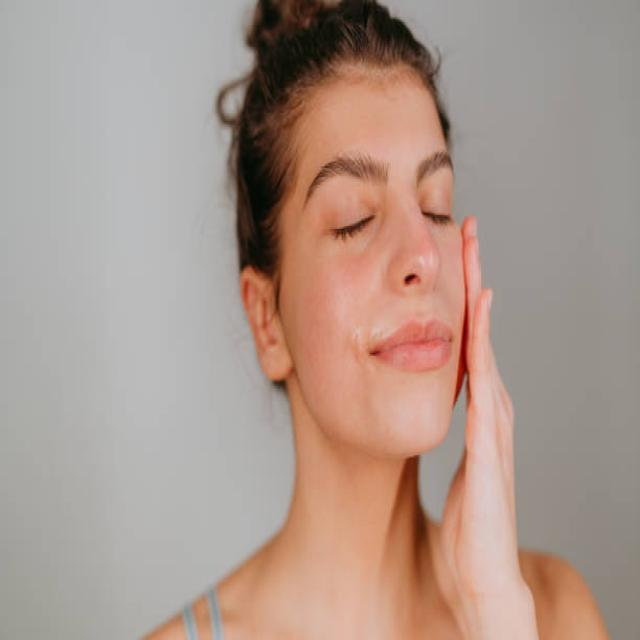Dry-Skin: (326, 105, 470, 202), (398, 307, 444, 458), (304, 286, 366, 354)
